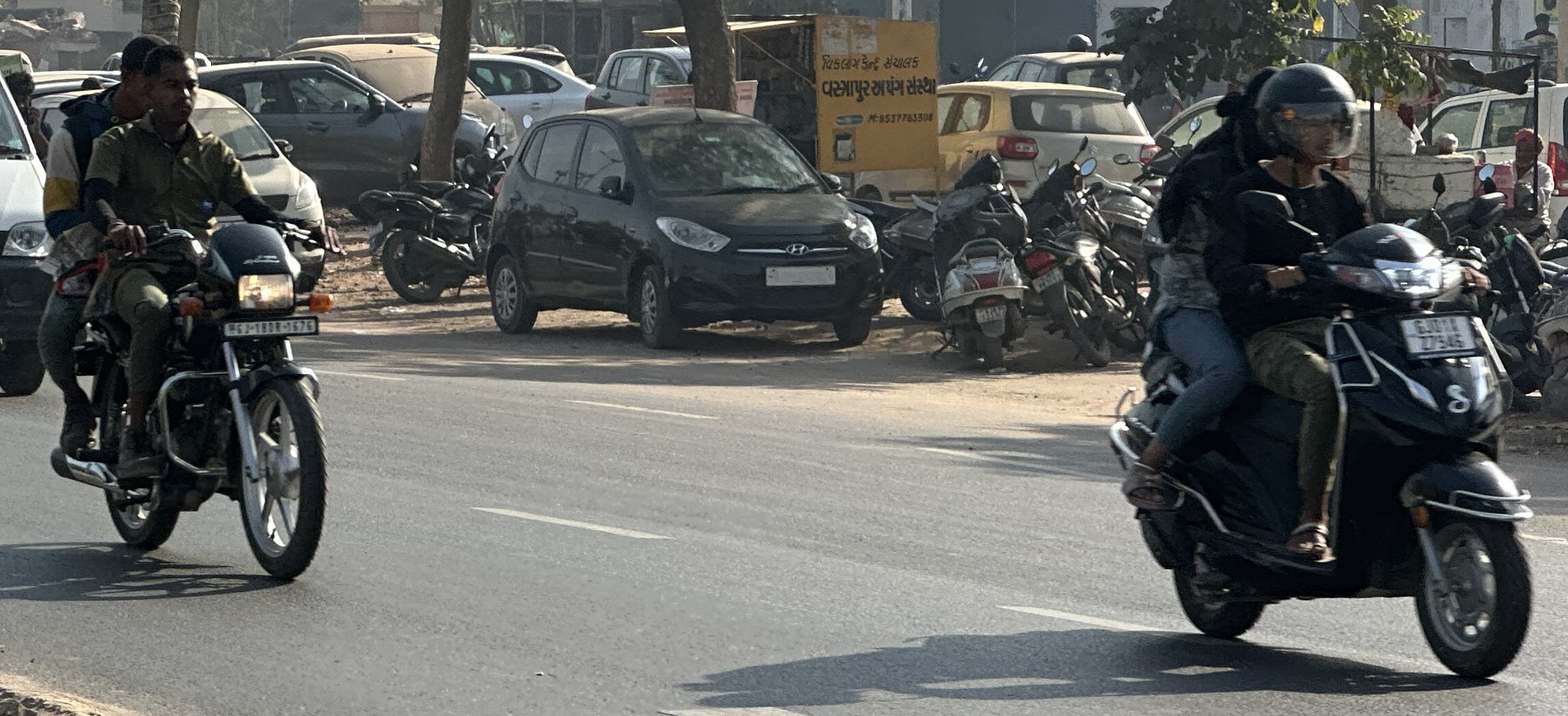BikeWithRider: (1096, 51, 1543, 689), (23, 17, 339, 593)
Helmet: (1238, 53, 1371, 171)
NoHelmet: (139, 42, 211, 129), (113, 29, 179, 113)
